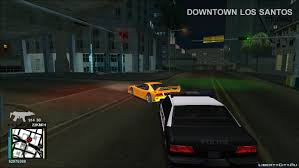car: (158, 92, 263, 167), (126, 80, 181, 106)
